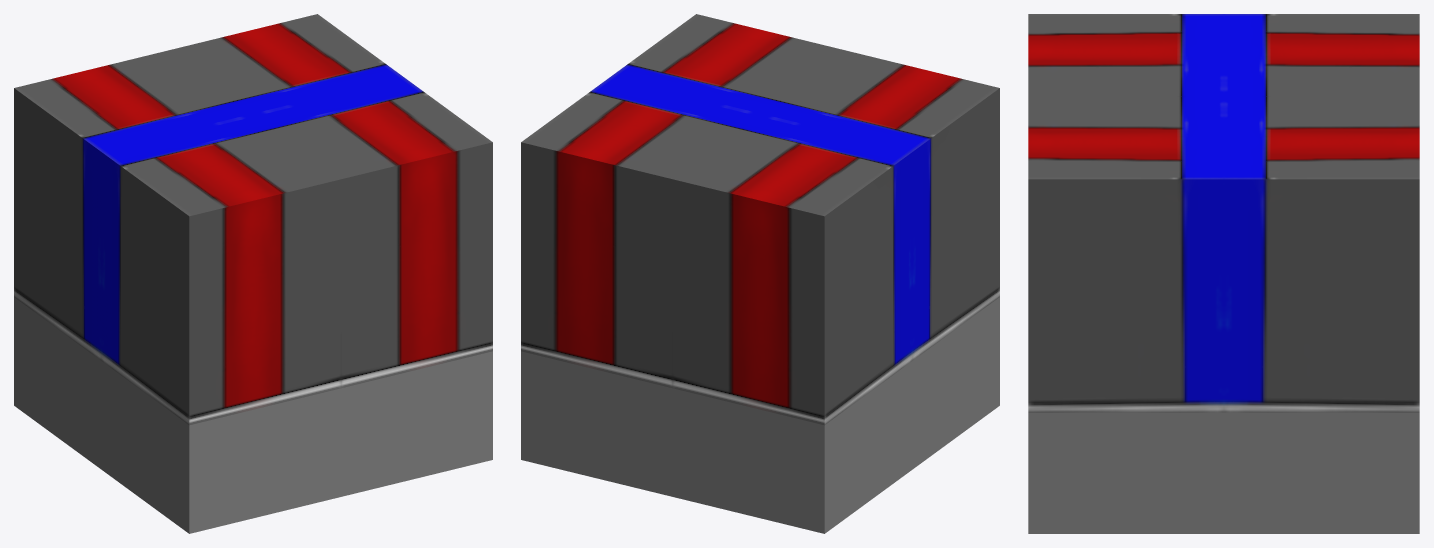
File: space_cube.gltf
The picture shows the model from 3 angles, left to right: view 1: azimuth 30°, elevation 25°; view 2: azimuth 150°, elevation 25°; view 3: azimuth 270°, elevation 25°; orthographic projection. The views are drawn at different scales.
Parts seen in each view (by area): view 1: space_border_cube_glb; view 2: space_border_cube_glb; view 3: space_border_cube_glb.
Boxes of the visible parts, x1,y1,x2,y2 form: space_border_cube_glb: (14,14,492,533); space_border_cube_glb: (521,14,999,533); space_border_cube_glb: (1028,14,1419,533).
Size of what is drawn, in the model's own units: 1 by 1 by 1.
1 material, 1 textured.
